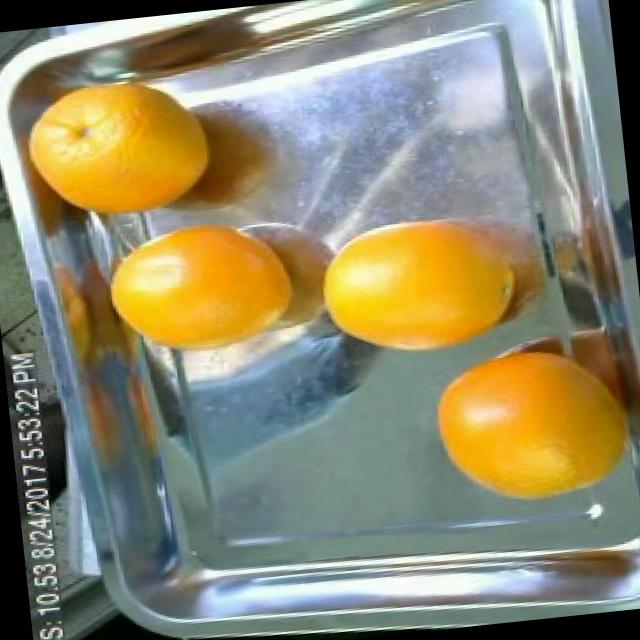Fruit: (298, 188, 528, 374), (413, 336, 640, 523), (83, 205, 304, 378)
